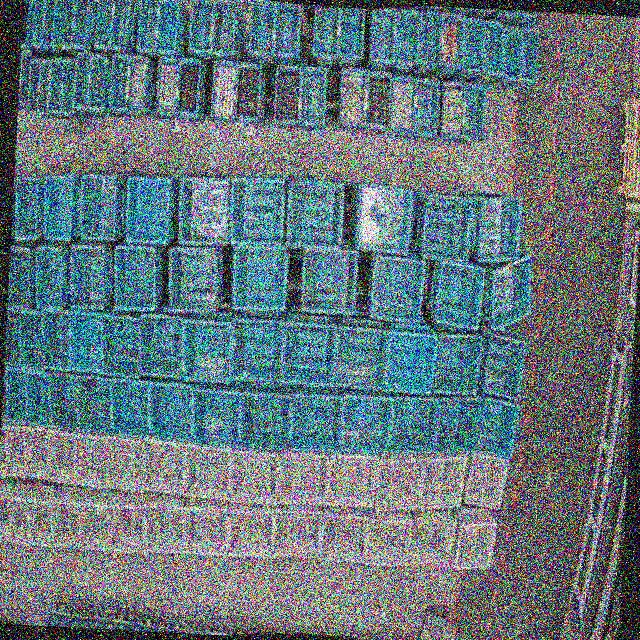Box: (366, 252, 428, 323), (229, 244, 289, 314), (227, 175, 285, 247), (166, 241, 222, 315), (285, 179, 345, 248), (418, 191, 473, 266), (355, 183, 414, 252), (300, 245, 358, 315), (487, 249, 534, 333), (471, 192, 525, 264), (332, 322, 388, 391), (431, 258, 486, 328), (432, 328, 485, 399), (227, 317, 285, 381), (280, 320, 338, 384), (382, 329, 438, 395), (238, 384, 292, 452), (288, 390, 343, 455), (178, 176, 230, 244), (431, 390, 485, 455), (338, 392, 392, 455), (480, 330, 528, 400), (181, 316, 231, 383), (111, 244, 160, 311), (417, 446, 468, 510), (324, 448, 378, 508), (138, 313, 187, 379), (374, 448, 423, 514), (124, 174, 170, 244), (190, 384, 242, 445), (387, 392, 438, 454), (362, 508, 414, 568), (408, 508, 457, 570), (227, 446, 278, 505), (319, 505, 369, 565), (475, 393, 521, 458), (462, 449, 511, 510), (146, 381, 194, 443), (98, 310, 143, 376), (277, 450, 327, 509), (182, 498, 230, 558), (272, 506, 323, 562), (182, 440, 230, 499), (79, 171, 119, 239), (141, 495, 186, 555), (225, 506, 274, 561), (105, 490, 147, 554), (454, 506, 496, 570), (69, 244, 108, 310), (142, 438, 186, 496), (66, 308, 104, 372), (104, 434, 148, 489), (109, 380, 150, 436), (33, 243, 67, 310), (70, 432, 111, 487), (42, 174, 76, 239), (74, 377, 113, 433), (48, 484, 82, 547), (77, 489, 111, 550), (46, 372, 80, 431), (12, 172, 41, 240), (43, 427, 78, 483), (23, 484, 53, 546), (39, 311, 71, 369), (412, 74, 440, 139), (437, 80, 465, 145), (338, 66, 366, 130), (21, 372, 52, 429), (5, 482, 33, 543), (274, 63, 301, 126), (210, 59, 238, 118), (233, 64, 261, 123), (299, 66, 326, 127), (7, 245, 32, 310), (368, 5, 396, 63), (1, 423, 30, 479), (389, 74, 415, 136), (16, 310, 44, 367), (20, 428, 51, 479), (272, 2, 300, 58), (208, 0, 237, 54), (310, 6, 340, 58), (365, 69, 391, 129), (175, 58, 200, 120), (460, 79, 485, 141), (154, 56, 179, 117), (394, 6, 420, 64), (248, 0, 275, 54), (108, 50, 131, 113), (439, 12, 465, 67), (2, 367, 28, 422), (187, 0, 213, 52), (338, 6, 364, 58), (418, 9, 442, 64), (127, 54, 149, 114), (153, 0, 178, 52), (461, 17, 484, 72), (135, 0, 159, 51), (73, 50, 92, 113), (520, 26, 541, 82), (59, 56, 78, 117), (500, 26, 521, 81), (483, 20, 504, 74), (3, 307, 22, 365), (93, 0, 115, 48), (109, 0, 130, 50), (89, 52, 106, 111), (70, 0, 90, 49), (17, 49, 33, 109), (38, 56, 53, 117), (58, 0, 77, 48), (28, 60, 43, 114), (0, 478, 13, 539), (40, 0, 57, 46), (50, 56, 63, 116), (30, 0, 46, 47), (19, 0, 31, 47)
